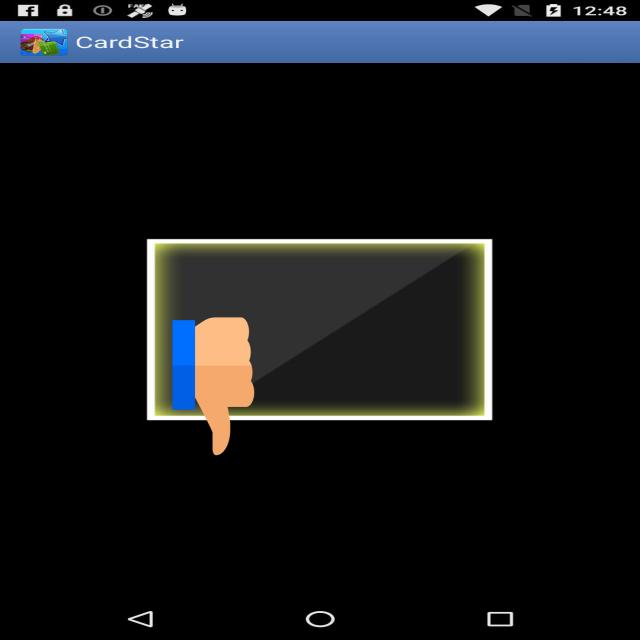obstruction: (172, 314, 255, 459)
